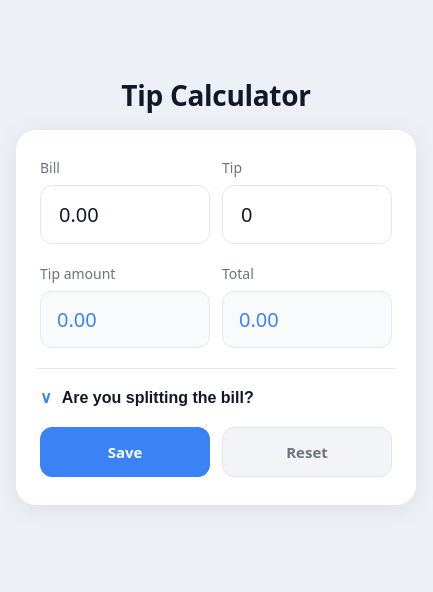
Scenario: App – history › Clear removes all entries
Click the button "Save" at (125, 452), box top-left (40, 426), bottom-right (210, 476)
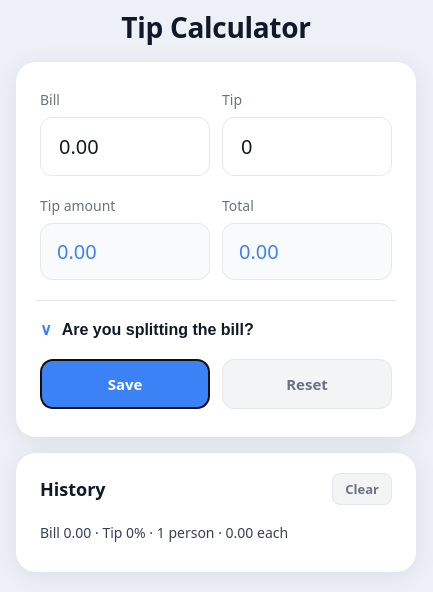
Click the button "Clear" at (362, 489), box top-left (332, 473), bottom-right (392, 505)
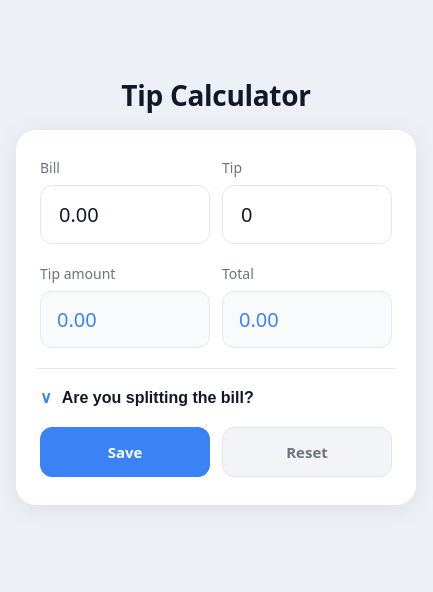
Check: the heading "History" is gone
